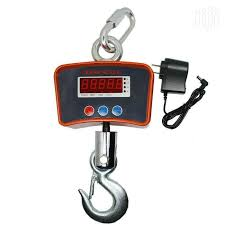Industrial Scale: (51, 6, 155, 225)
